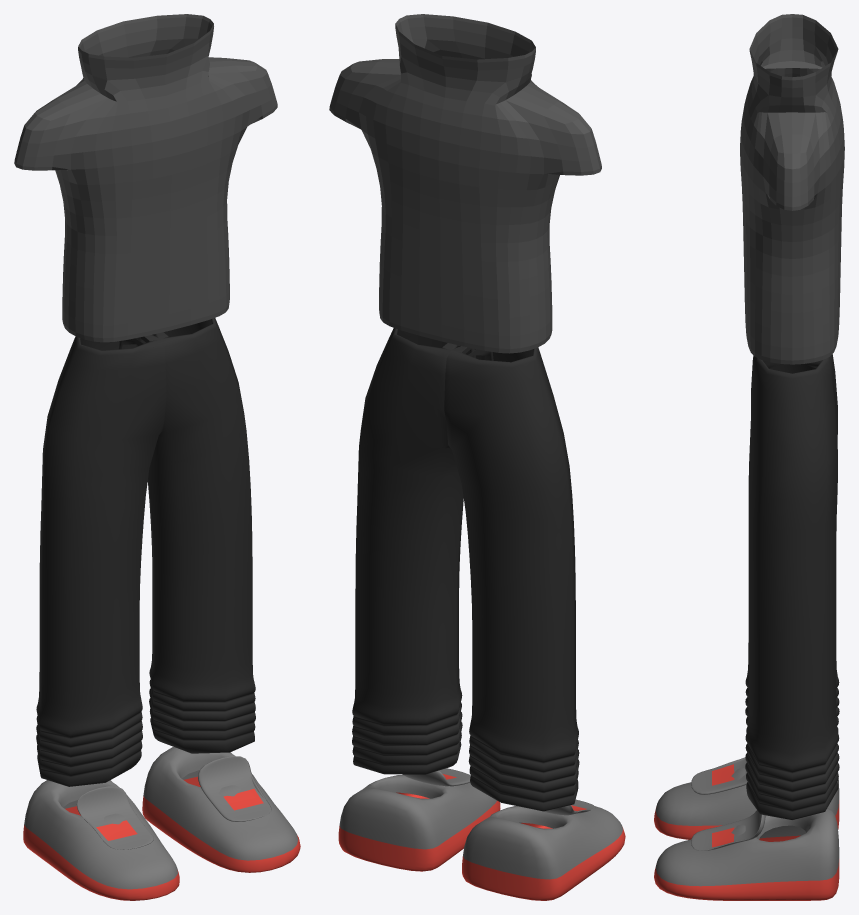
The model's file is look1.glb.
3 views of the same model, side by side, from view 1: azimuth 30°, elevation 25°; view 2: azimuth 150°, elevation 25°; view 3: azimuth 270°, elevation 25° (orthographic). The views are drawn at different scales.
Parts seen in each view (by area): view 1: Feet.001, shirt, Feet; view 2: Feet.001, shirt, Feet; view 3: Feet.001, shirt, Feet.
Boxes of the visible parts, x1,y1,x2,y2 form: Feet.001: [36, 318, 255, 786]; shirt: [14, 14, 277, 342]; Feet: [23, 747, 300, 900]; Feet.001: [352, 328, 579, 811]; shirt: [329, 14, 601, 353]; Feet: [338, 768, 625, 900]; Feet.001: [745, 354, 839, 819]; shirt: [740, 14, 844, 364]; Feet: [654, 757, 839, 900].
Bounding box in the file's own units: 1.39 × 4.1 × 0.8791.
